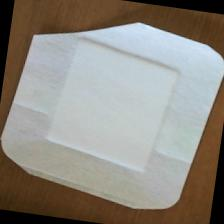Cut: (1, 3, 224, 223)
